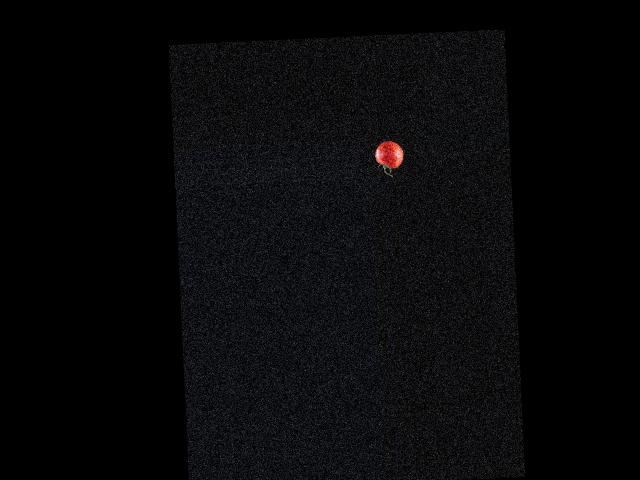tomato: (374, 140, 404, 169)
